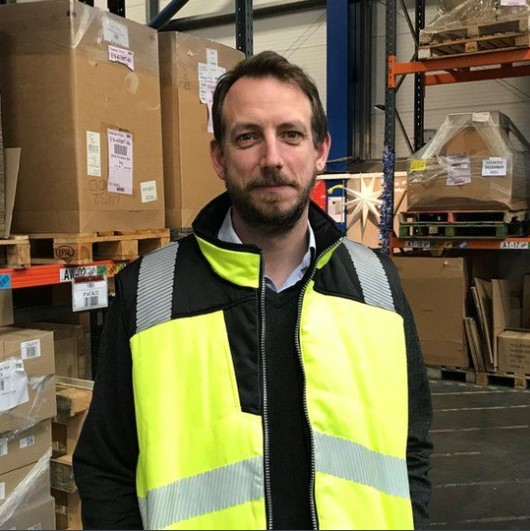worker: (133, 58, 415, 531)
